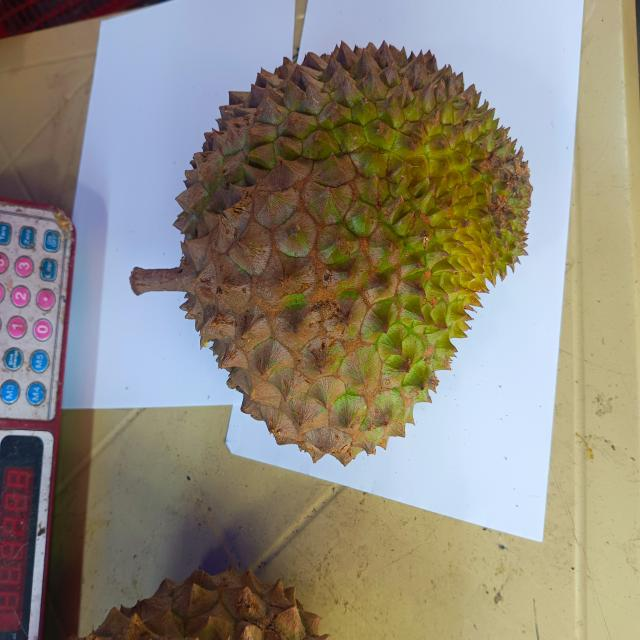mature: (130, 41, 532, 465)
